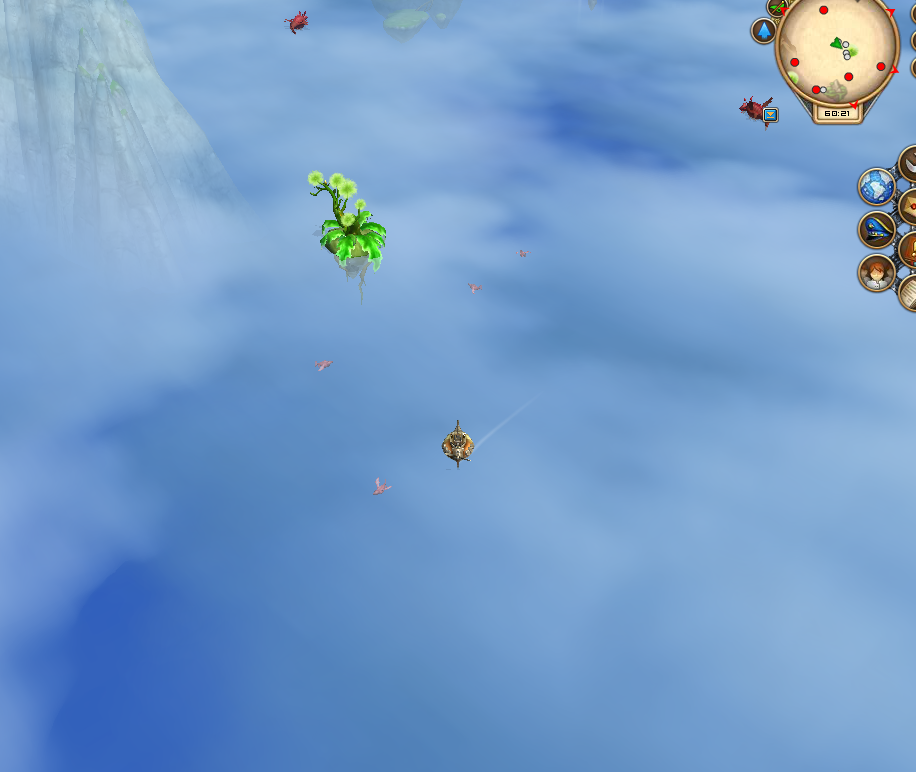dandelion-full: (300, 159, 390, 285)
